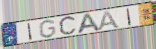A: (76, 12, 102, 35), (97, 10, 122, 32)
C: (58, 14, 78, 37)
G: (38, 19, 57, 39)
I: (27, 22, 33, 41), (126, 7, 132, 26)
